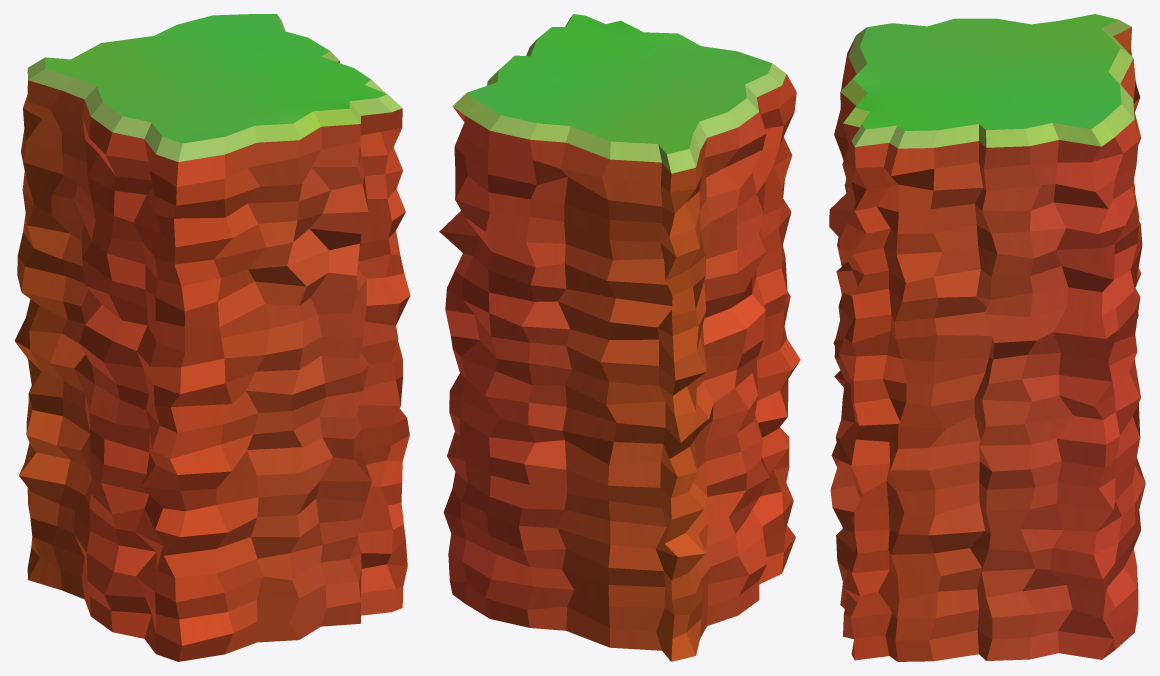
File: cliff.fbx
3 views of the same model, side by side, from view 1: azimuth 30°, elevation 25°; view 2: azimuth 150°, elevation 25°; view 3: azimuth 270°, elevation 25° (orthographic). The views are drawn at different scales.
Parts seen in each view (by area): view 1: Plane; view 2: Plane; view 3: Plane.
Part boxes in pixels (bbox=[...]): Plane: bbox=[14, 14, 410, 661]; Plane: bbox=[439, 14, 800, 661]; Plane: bbox=[829, 14, 1145, 661].
Bounding box in the file's own units: 6300 × 11180 × 6100.
